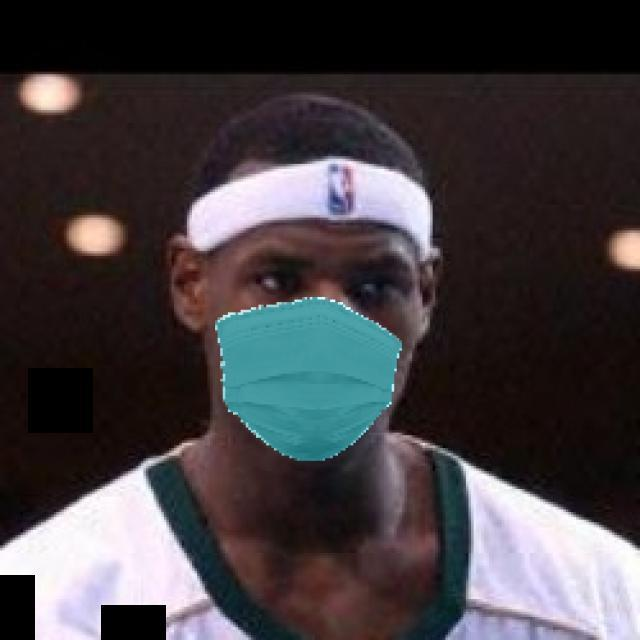surgical: (212, 160, 428, 470)
